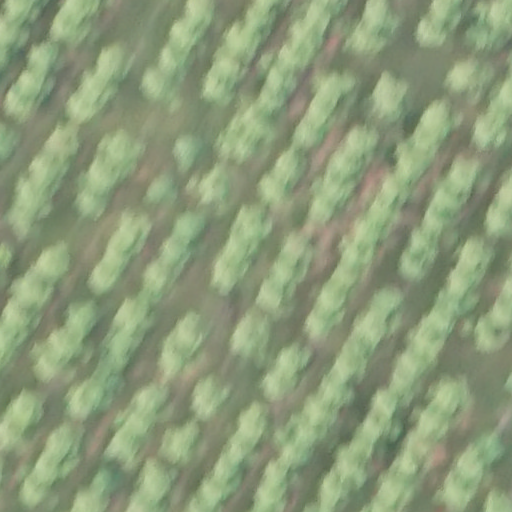eucalipto: (227, 312, 273, 357), (132, 378, 175, 425), (100, 131, 144, 175), (51, 2, 95, 45), (445, 56, 487, 100), (12, 181, 58, 221), (283, 16, 322, 61), (204, 251, 249, 290), (372, 73, 411, 118), (71, 184, 113, 225), (27, 154, 70, 194), (189, 378, 233, 417), (63, 380, 105, 420), (217, 120, 260, 159), (150, 339, 188, 383), (59, 90, 101, 129), (352, 310, 397, 346), (199, 69, 238, 110), (348, 26, 391, 63), (35, 241, 73, 282), (394, 138, 435, 176), (22, 39, 65, 75), (452, 157, 488, 200), (39, 124, 83, 159), (101, 434, 140, 473), (221, 20, 261, 58), (421, 98, 459, 138), (12, 273, 56, 307), (376, 473, 421, 506), (76, 72, 115, 110), (316, 473, 354, 512), (1, 86, 41, 123), (209, 53, 249, 90), (201, 169, 241, 206), (238, 202, 275, 242), (87, 152, 123, 192), (7, 392, 47, 428), (358, 1, 403, 33), (317, 76, 357, 112), (253, 281, 294, 316), (137, 457, 178, 492), (95, 43, 130, 83), (168, 131, 208, 166), (275, 147, 310, 187), (163, 420, 198, 460), (43, 427, 84, 461), (436, 287, 478, 320), (473, 112, 507, 152), (437, 478, 477, 512), (243, 104, 280, 140), (328, 145, 364, 182), (432, 188, 468, 225), (432, 380, 469, 416), (140, 67, 175, 105), (270, 256, 308, 291), (103, 327, 140, 362), (174, 309, 209, 346), (459, 236, 494, 273), (474, 313, 509, 350), (337, 448, 374, 483), (318, 171, 357, 204), (378, 175, 413, 211), (222, 424, 257, 460), (303, 397, 339, 432), (394, 441, 427, 479), (15, 69, 55, 100), (254, 172, 288, 208), (272, 44, 307, 78), (399, 248, 432, 284), (455, 450, 491, 483), (280, 236, 317, 268), (238, 401, 270, 438), (84, 261, 122, 292), (413, 17, 447, 51), (302, 98, 337, 131), (363, 208, 398, 241), (320, 375, 356, 407), (295, 1, 332, 32), (117, 412, 155, 442), (49, 328, 82, 362), (116, 297, 150, 330), (337, 237, 371, 270), (65, 304, 100, 336), (20, 475, 55, 507), (292, 114, 327, 146), (302, 303, 337, 335), (172, 212, 208, 243), (333, 351, 369, 382), (242, 3, 280, 32), (166, 21, 200, 53), (344, 126, 378, 158), (419, 409, 450, 444), (31, 456, 67, 486), (103, 233, 135, 266), (428, 1, 461, 33), (401, 349, 438, 377), (2, 304, 40, 331), (213, 458, 245, 490), (414, 328, 446, 360), (144, 175, 177, 206), (424, 306, 457, 337), (115, 214, 149, 244), (482, 204, 512, 238), (1, 1, 44, 24), (73, 488, 114, 512), (140, 260, 171, 291), (275, 341, 311, 367), (156, 47, 186, 78), (319, 280, 349, 311), (262, 67, 294, 96), (89, 469, 127, 493), (262, 373, 297, 398), (159, 238, 191, 265), (329, 260, 361, 287), (447, 273, 484, 296), (373, 286, 403, 314), (411, 231, 443, 256), (259, 88, 287, 116), (200, 480, 228, 508), (421, 210, 449, 238), (373, 388, 400, 417), (293, 427, 320, 455), (184, 1, 213, 27), (309, 197, 338, 223), (282, 445, 309, 471), (495, 172, 512, 210), (264, 459, 289, 480)
